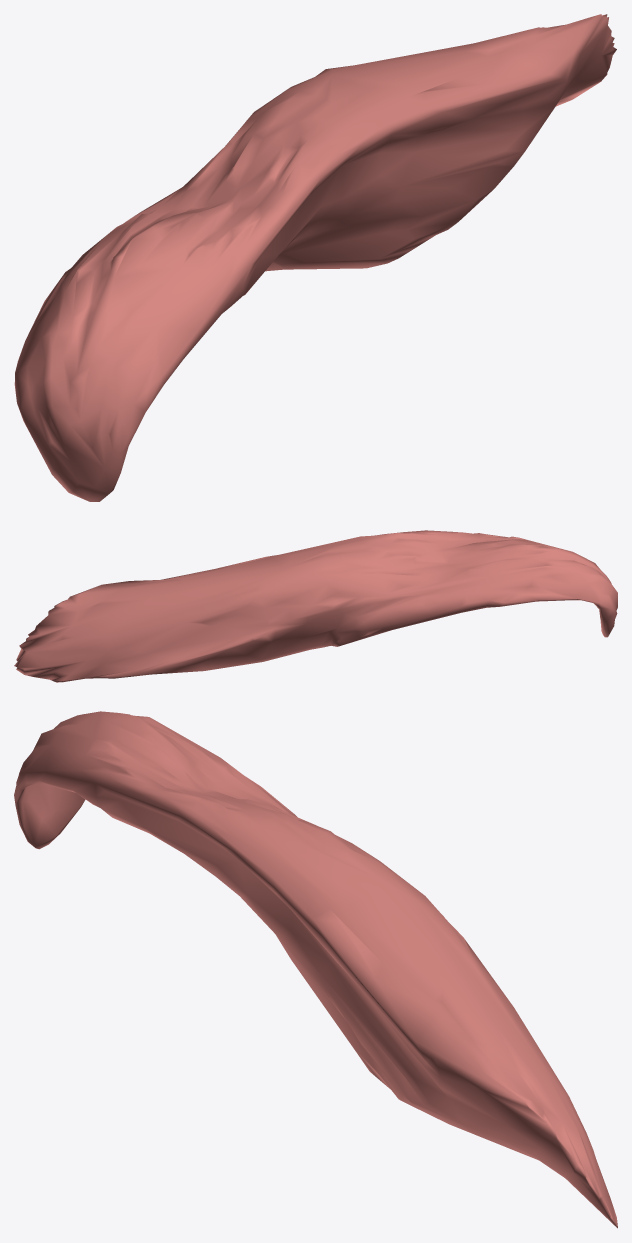
The picture shows the model from 3 angles, top to bottom: view 1: azimuth 30°, elevation 25°; view 2: azimuth 150°, elevation 25°; view 3: azimuth 270°, elevation 25°; orthographic projection. The views are drawn at different scales.
Parts seen in each view (by area): view 1: ZA_01cb75938da65be0; view 2: ZA_01cb75938da65be0; view 3: ZA_01cb75938da65be0.
Part boxes in pixels (left/top/right/bottom): ZA_01cb75938da65be0: left=14, top=14, right=616, bottom=501; ZA_01cb75938da65be0: left=14, top=530, right=617, bottom=682; ZA_01cb75938da65be0: left=14, top=711, right=617, bottom=1228.
Bounding box in the file's own units: 0.1251 × 0.0328 × 0.0848.
